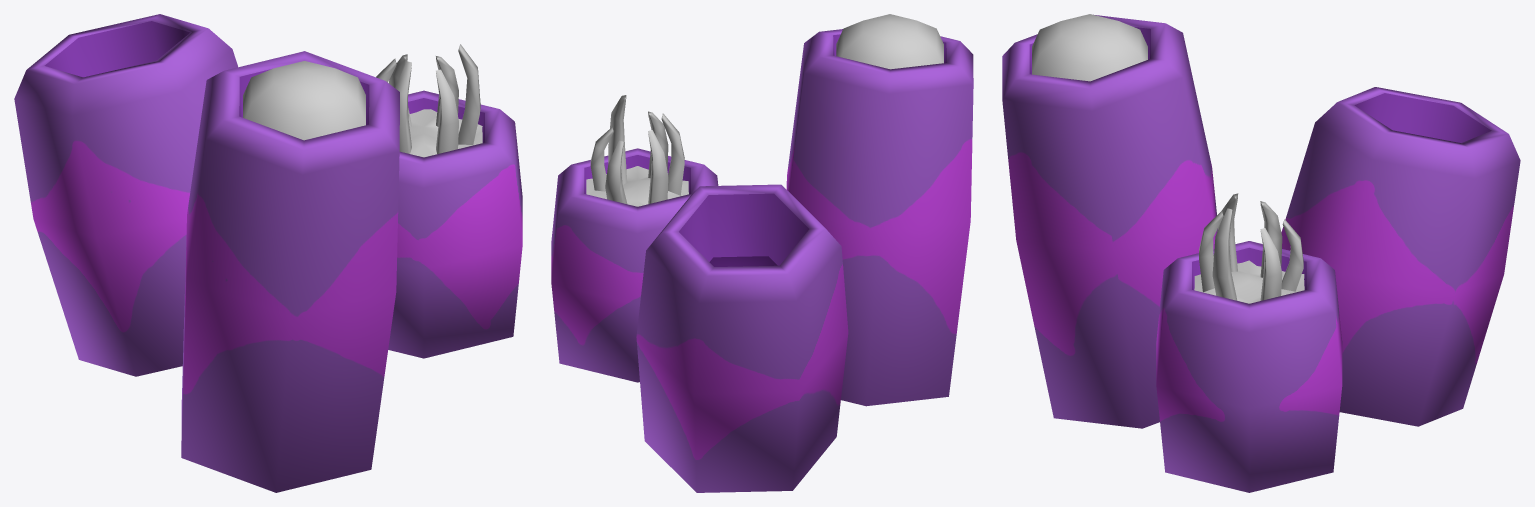
The model's file is BarnaclePack.fbx.
The picture shows the model from 3 angles, left to right: view 1: azimuth 30°, elevation 25°; view 2: azimuth 150°, elevation 25°; view 3: azimuth 270°, elevation 25°; orthographic projection. The views are drawn at different scales.
Parts seen in each view (by area): view 1: Tube2, Tube3, Tube1, Filler_Blob, Filler_Spikes; view 2: Tube3, Tube2, Tube1, Filler_Spikes, Filler_Blob; view 3: Tube2, Tube3, Tube1, Filler_Spikes, Filler_Blob.
Boxes of the visible parts, left/top/right/bottom form: Tube2: left=181, top=51, right=399, bottom=492; Tube3: left=14, top=14, right=237, bottom=376; Tube1: left=388, top=90, right=522, bottom=358; Filler_Blob: left=243, top=61, right=365, bottom=140; Filler_Spikes: left=376, top=44, right=482, bottom=157; Tube3: left=636, top=184, right=848, bottom=492; Tube2: left=786, top=29, right=973, bottom=406; Tube1: left=551, top=148, right=718, bottom=382; Filler_Spikes: left=586, top=95, right=688, bottom=206; Filler_Blob: left=836, top=14, right=943, bottom=69; Tube2: left=1002, top=14, right=1217, bottom=428; Tube3: left=1281, top=87, right=1520, bottom=426; Tube1: left=1156, top=241, right=1342, bottom=492; Filler_Spikes: left=1194, top=193, right=1304, bottom=303; Filler_Blob: left=1032, top=14, right=1147, bottom=81.
Size of the model in its own units: 13.68 by 12.78 by 16.
